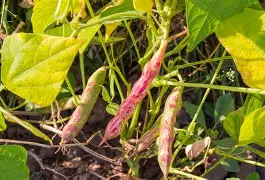crops: (0, 0, 260, 179)
